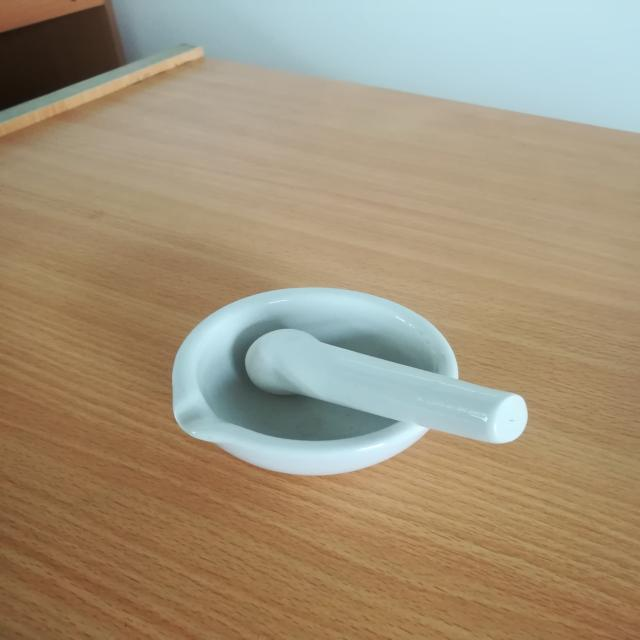Porcelain_Mortar Pestle: (134, 232, 554, 522)
